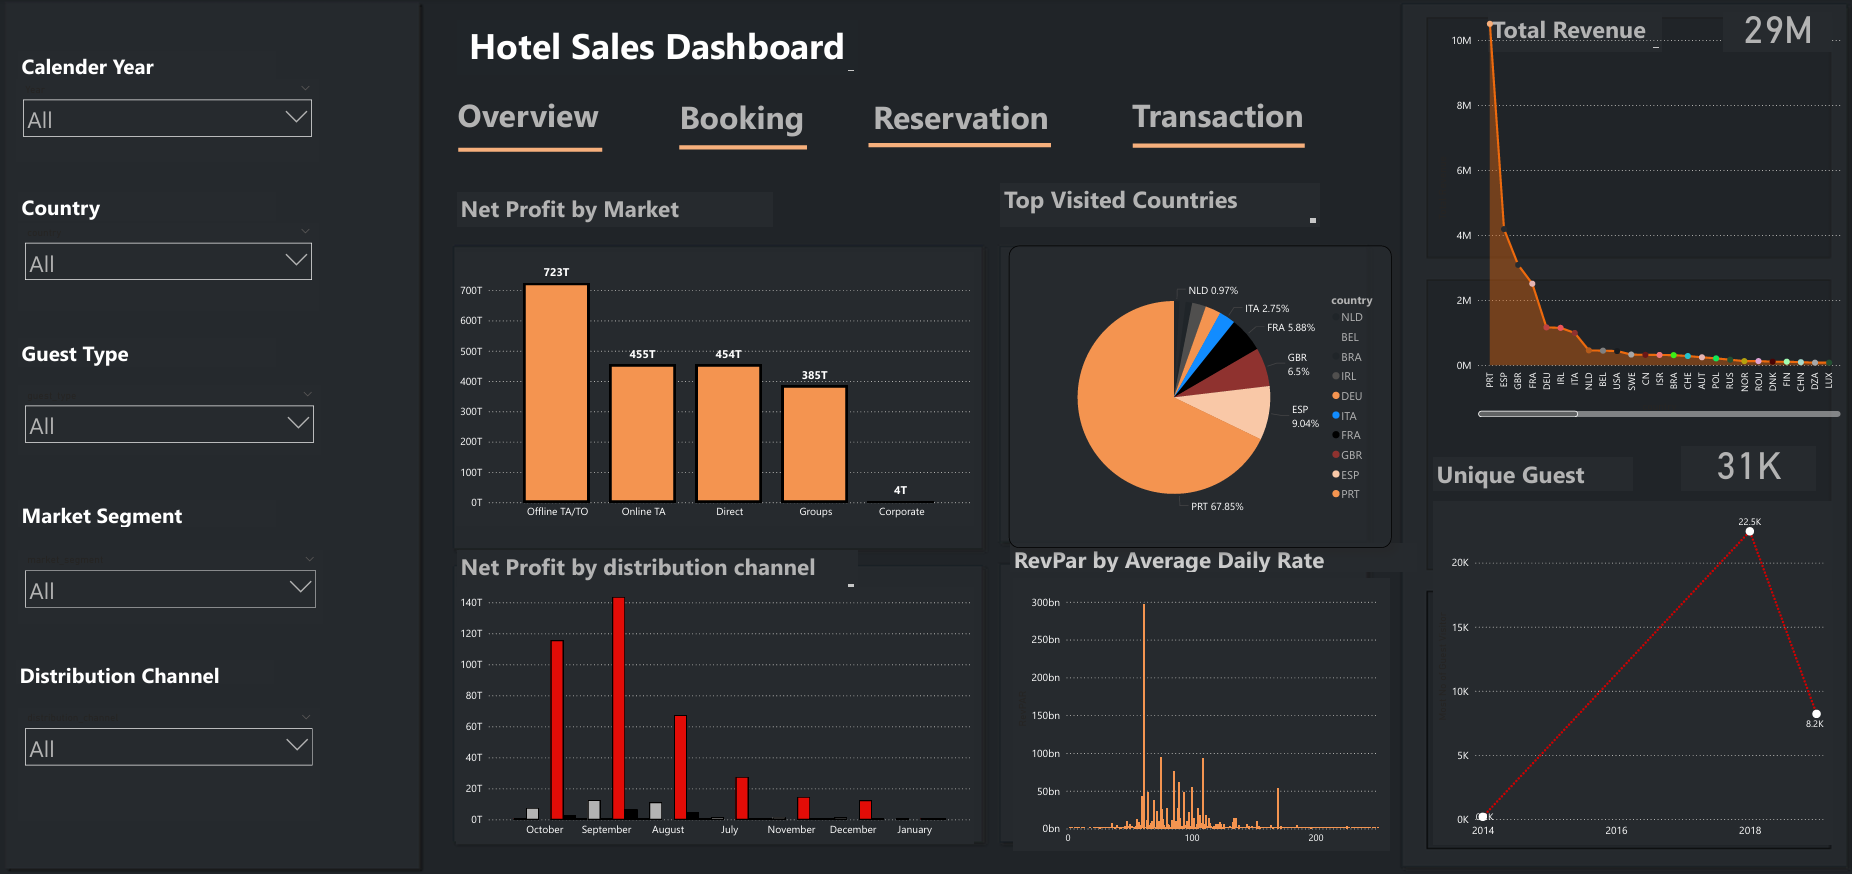

The dashboard page shown, as its layout file describes it:
{"tool":"powerbi","page":{"name":"Overview","canvas":[2645,1250],"ordinal":0},"visuals":[{"type":"textbox","title":"Hotel Sales Dashboard","box":[651.2,32.3,570.5,78],"z":0},{"type":"clusteredColumnChart","fields":{"Y":["...RevPAR"],"Category":["Transaction.average_daily_rate"]},"box":[1443.6,827.6,537.3,388],"z":1000},{"type":"textbox","title":"RevPar by Average Daily Rate","box":[1440,777.5,580,40],"z":2000},{"type":"textbox","title":"Net Profit by Market","box":[651.2,277.2,449.4,48.4],"z":3000},{"type":"clusteredColumnChart","fields":{"Category":["market.market_segment"],"Y":["...Profit"]},"box":[650,362.5,737.5,390],"z":4000},{"type":"textbox","title":"Net Profit by distribution channel","box":[651.2,788.4,570.5,59.2],"z":5000},{"type":"clusteredColumnChart","fields":{"Y":["...Profit"],"Category":["date.arrival_date_month"],"Series":["market.distribution_channel"]},"box":[650,840,737.5,365],"z":6000},{"type":"textbox","title":"Unique Guest","box":[2043.3,655,285.2,47],"z":7000},{"type":"card","fields":{"Values":["Reservation Status.Most No of Guest Visitor"]},"box":[2397.4,639.3,191.2,62.7],"z":8000},{"type":"lineChart","fields":{"Y":["Reservation Status.Most No of Guest Visitor"],"Category":["booking.Booking_date.Variation.Date Hierarchy.Year"]},"box":[2043.3,717.7,567.2,488.9],"z":9000},{"type":"pieChart","fields":{"Category":["total.country"],"Y":["Measure.No of Guest Visitor"]},"box":[1438.2,352.8,545.4,431.4],"z":10000},{"type":"textbox","title":"Top Visited Countries","box":[1426.2,263.7,454.8,61.9],"z":11000},{"type":"textbox","title":"Total Revenue ","box":[2122.4,21.3,248,56],"z":12000},{"type":"areaChart","fields":{"Category":["total.country"],"Y":["Reservation Status.Total Revenue"]},"box":[2043.3,0,586.1,602.4],"z":13000},{"type":"card","fields":{"Values":["Reservation Status.Total Revenue"]},"box":[2458.4,21.3,154.6,56],"z":14000},{"type":"slicer","fields":{"Values":["booking.Booking_date.Variation.Date Hierarchy.Year"]},"box":[21.6,117.4,432.6,117.4],"z":15000},{"type":"textbox","title":"Calender Year","box":[24.7,77.3,367.7,40.2],"z":16000},{"type":"slicer","fields":{"Values":["total.country"]},"box":[24.7,321.4,429.5,123.6],"z":17000},{"type":"slicer","fields":{"Values":["Guest.guest_type"]},"box":[24.7,553.2,432.6,98.9],"z":18000},{"type":"textbox","title":"Country","box":[24.7,278.1,367.7,40.2],"z":19000},{"type":"textbox","title":"Guest Type","box":[24.7,485.2,367.7,40.2],"z":20000},{"type":"textbox","title":"Market Segment","box":[24.7,716.9,367.7,37.1],"z":21000},{"type":"textbox","title":"Distribution Channel","box":[22.1,943.7,367,33.1],"z":22000},{"type":"slicer","fields":{"Values":["market.market_segment"]},"box":[24.7,788,435.7,105.1],"z":23000},{"type":"slicer","fields":{"Values":["market.distribution_channel"]},"box":[24.8,1012.7,430.5,160],"z":24000},{"type":"actionButton","title":"Overview","box":[651.8,134.8,244.4,97.2],"z":25000},{"type":"actionButton","title":"Reservation","box":[1244.2,137.9,288.3,75.2],"z":26000},{"type":"actionButton","title":"Booking ","box":[968.4,137.9,253.8,97.2],"z":27000},{"type":"actionButton","title":"Transaction","box":[1614,134.8,288.3,75.2],"z":28000},{"type":"shape","box":[968.4,166.1,181.8,94],"z":29000},{"type":"shape","box":[1615,157.5,245,105],"z":30000},{"type":"shape","box":[1237.9,156.7,260.1,106.6],"z":31000},{"type":"shape","box":[652.5,172.5,205,87.5],"z":32000}]}

Visuals, with their boxes in screenshot pixels (x1, y1, x2, y2), scaled from the page's 2645x1250 canvas onto the 1852x874 screenshot:
"Hotel Sales Dashboard" textbox: <box>456,23,855,77</box>
clusteredColumnChart - ...RevPAR x Transaction.average_daily_rate: <box>1011,579,1387,850</box>
"RevPar by Average Daily Rate" textbox: <box>1008,544,1414,572</box>
"Net Profit by Market" textbox: <box>456,194,771,228</box>
clusteredColumnChart - market.market_segment x ...Profit: <box>455,253,972,526</box>
"Net Profit by distribution channel" textbox: <box>456,551,855,593</box>
clusteredColumnChart - ...Profit x date.arrival_date_month: <box>455,587,972,843</box>
"Unique Guest" textbox: <box>1431,458,1630,491</box>
card - Reservation Status.Most No of Guest Visitor: <box>1679,447,1813,491</box>
lineChart - Reservation Status.Most No of Guest Visitor x booking.Booking_date.Variation.Date Hierarchy.Year: <box>1431,502,1828,844</box>
pieChart - total.country x Measure.No of Guest Visitor: <box>1007,247,1389,548</box>
"Top Visited Countries" textbox: <box>999,184,1317,228</box>
"Total Revenue " textbox: <box>1486,15,1660,54</box>
areaChart - total.country x Reservation Status.Total Revenue: <box>1431,0,1841,421</box>
card - Reservation Status.Total Revenue: <box>1721,15,1830,54</box>
slicer - booking.Booking_date.Variation.Date Hierarchy.Year: <box>15,82,318,164</box>
"Calender Year" textbox: <box>17,54,275,82</box>
slicer - total.country: <box>17,225,318,311</box>
slicer - Guest.guest_type: <box>17,387,320,456</box>
"Country" textbox: <box>17,194,275,223</box>
"Guest Type" textbox: <box>17,339,275,367</box>
"Market Segment" textbox: <box>17,501,275,527</box>
"Distribution Channel" textbox: <box>15,660,272,683</box>
slicer - market.market_segment: <box>17,551,322,624</box>
slicer - market.distribution_channel: <box>17,708,319,820</box>
"Overview" actionButton: <box>456,94,628,162</box>
"Reservation" actionButton: <box>871,96,1073,149</box>
"Booking " actionButton: <box>678,96,856,164</box>
"Transaction" actionButton: <box>1130,94,1332,147</box>
shape: <box>678,116,805,182</box>
shape: <box>1131,110,1302,184</box>
shape: <box>867,110,1049,184</box>
shape: <box>457,121,600,182</box>
